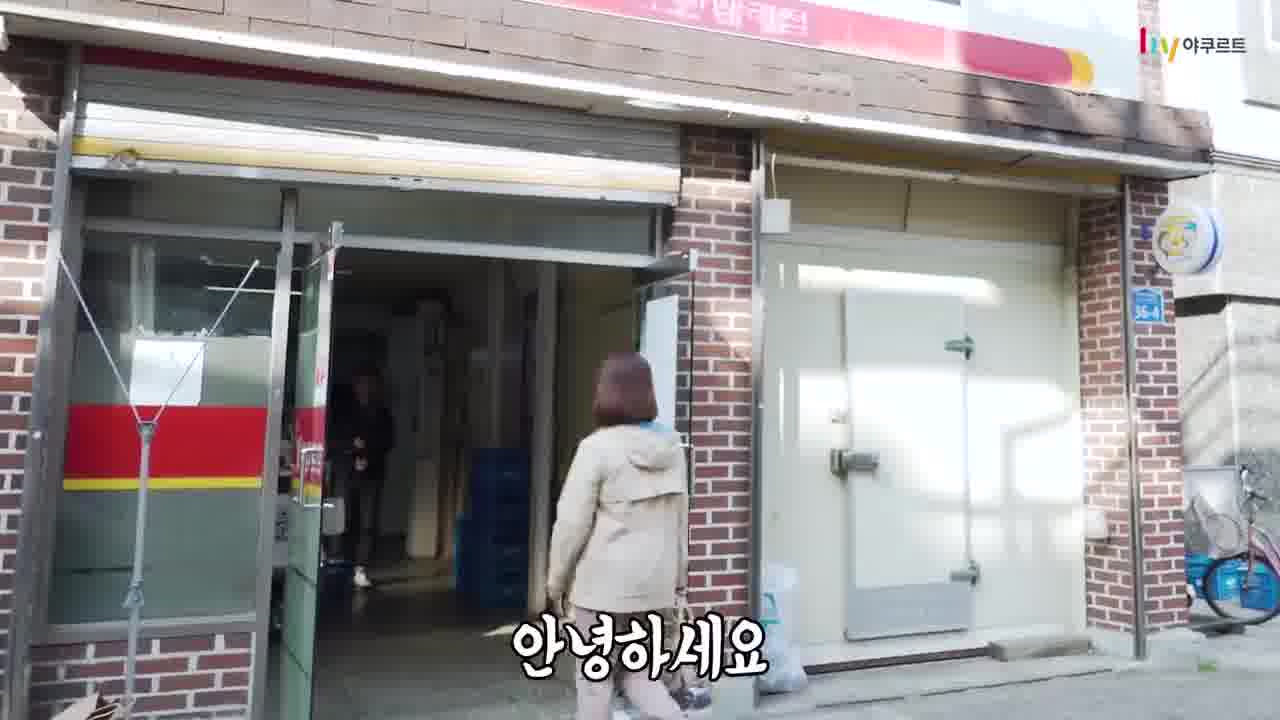Yakurut: (524, 345, 713, 720)
